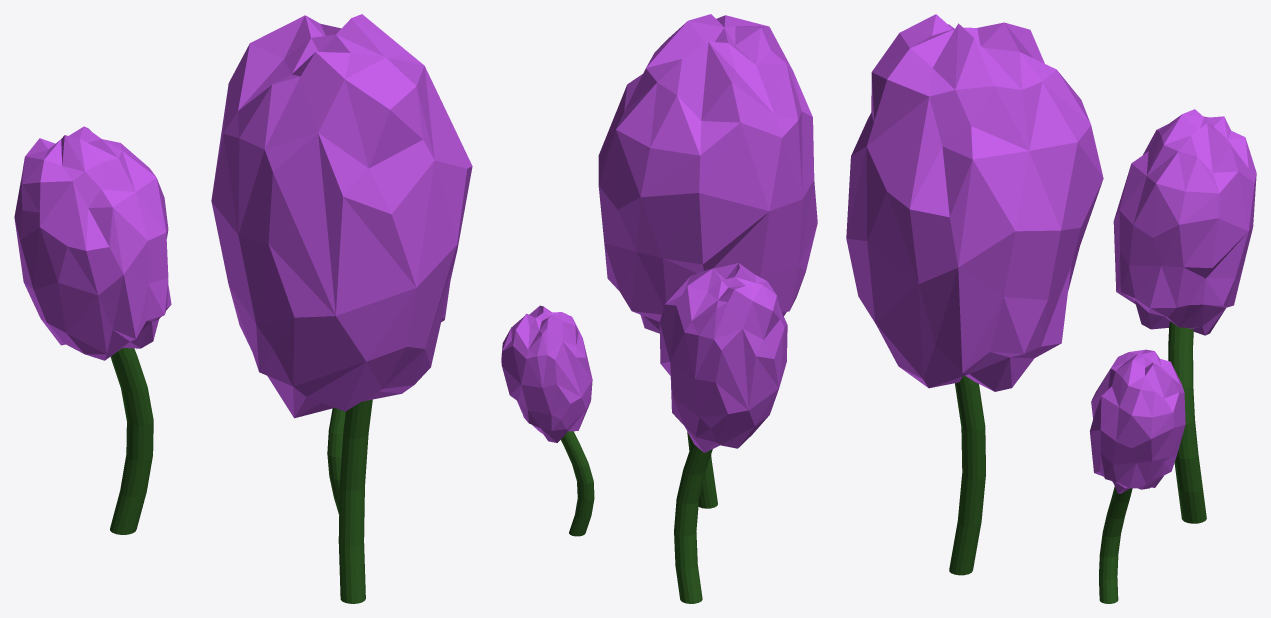
Rendered from Pot_1a_plant.fbx.
3 renders of one model, left to right at view 1: azimuth 30°, elevation 25°; view 2: azimuth 150°, elevation 25°; view 3: azimuth 270°, elevation 25°, orthographic. The views are drawn at different scales.
Parts seen in each view (by area): view 1: Sphere.002; view 2: Sphere.002; view 3: Sphere.002.
Part boxes in pixels (x1=…): Sphere.002: x1=14, y1=14, x2=472, y2=603; Sphere.002: x1=501, y1=14, x2=817, y2=603; Sphere.002: x1=846, y1=14, x2=1256, y2=603.
Bounding box in the file's own units: 76.92 × 122 × 83.39.
